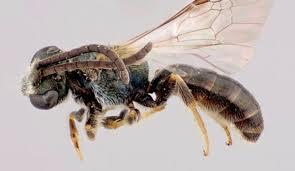Lasioglossum: (19, 0, 271, 156)
